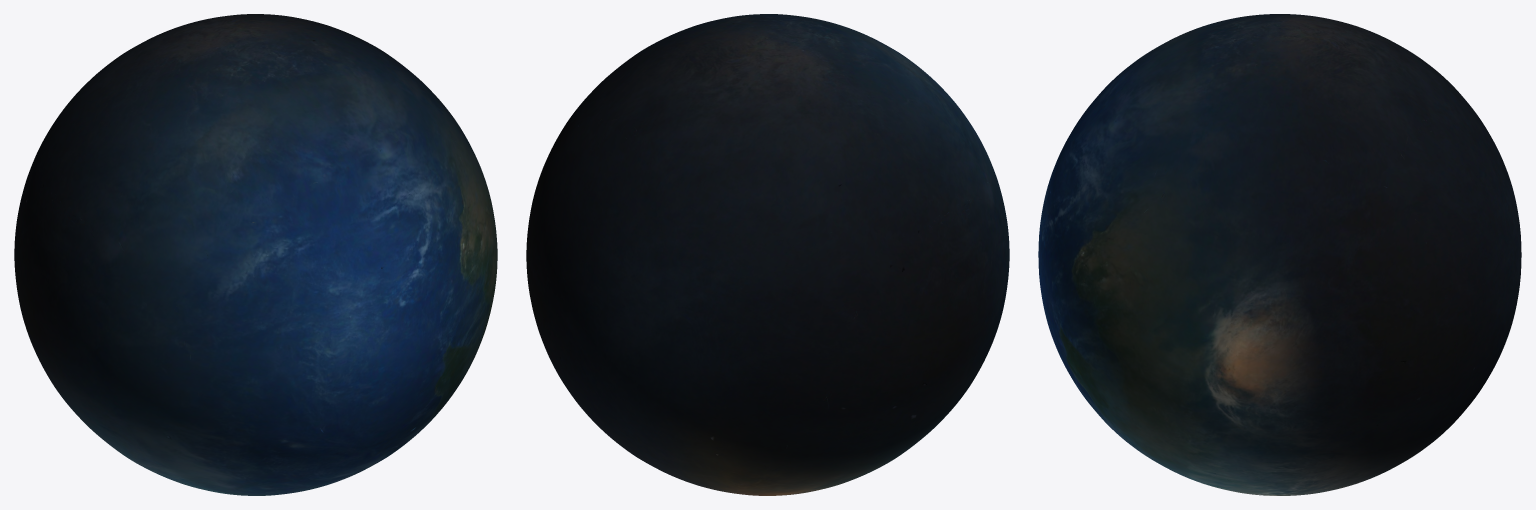
File: Dark_Blue_Purple_Green_Slime_Planet.glb
The picture shows the model from 3 angles, left to right: view 1: azimuth 30°, elevation 25°; view 2: azimuth 150°, elevation 25°; view 3: azimuth 270°, elevation 25°; orthographic projection.
Bounding box in the file's own units: 2 × 2 × 2.
Materials: 1 (1 with a texture image).
